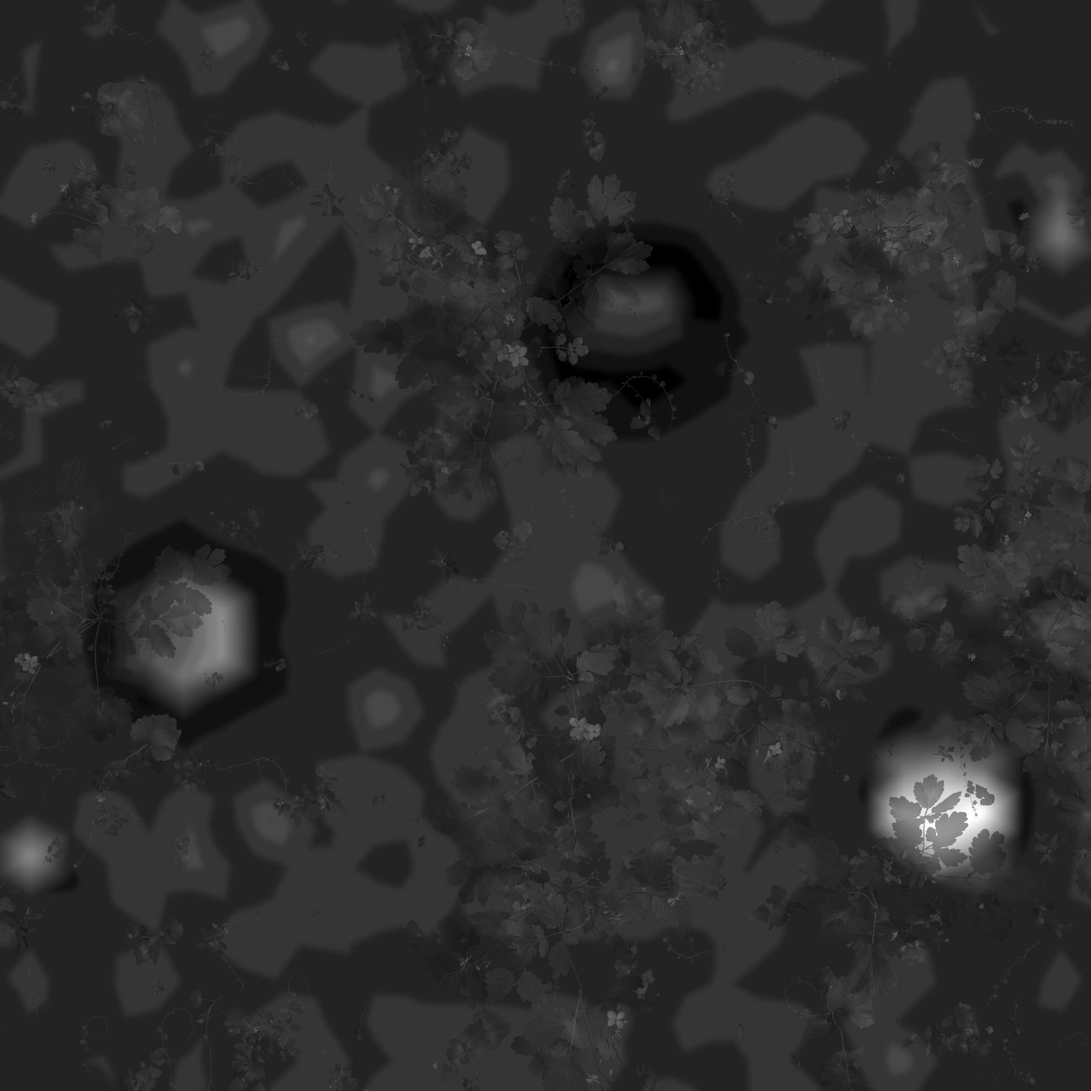landmine: (103, 541, 268, 715), (868, 729, 1031, 885), (562, 239, 698, 372)
